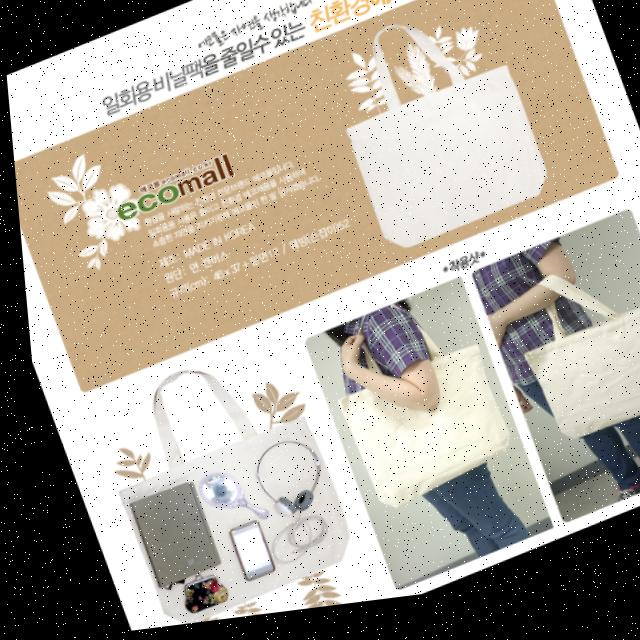ecobag: (72, 332, 363, 635), (295, 289, 527, 533), (487, 257, 640, 472)
